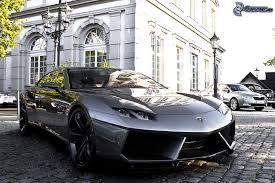Lamborghini: (17, 66, 236, 168)
